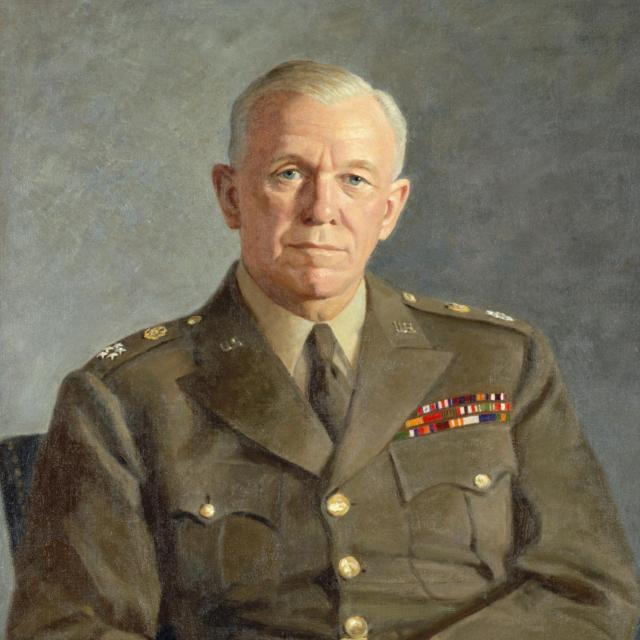mobile_phonerotation: (5, 59, 638, 638)
